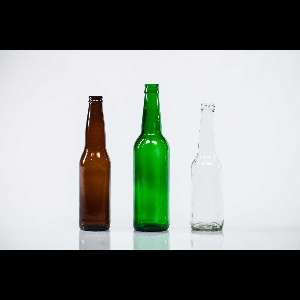emptybottle: (134, 84, 169, 232), (191, 103, 223, 232), (80, 97, 110, 231)
